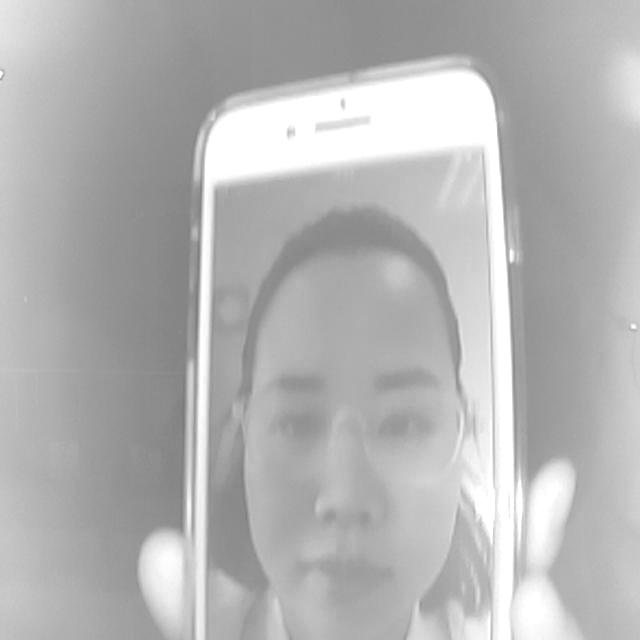fake: (176, 57, 524, 640)
